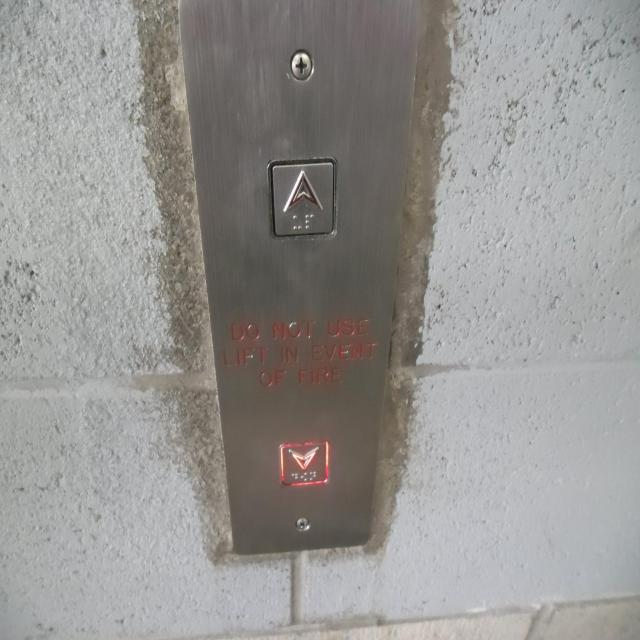down: (277, 438, 332, 488)
up: (266, 154, 341, 243)
